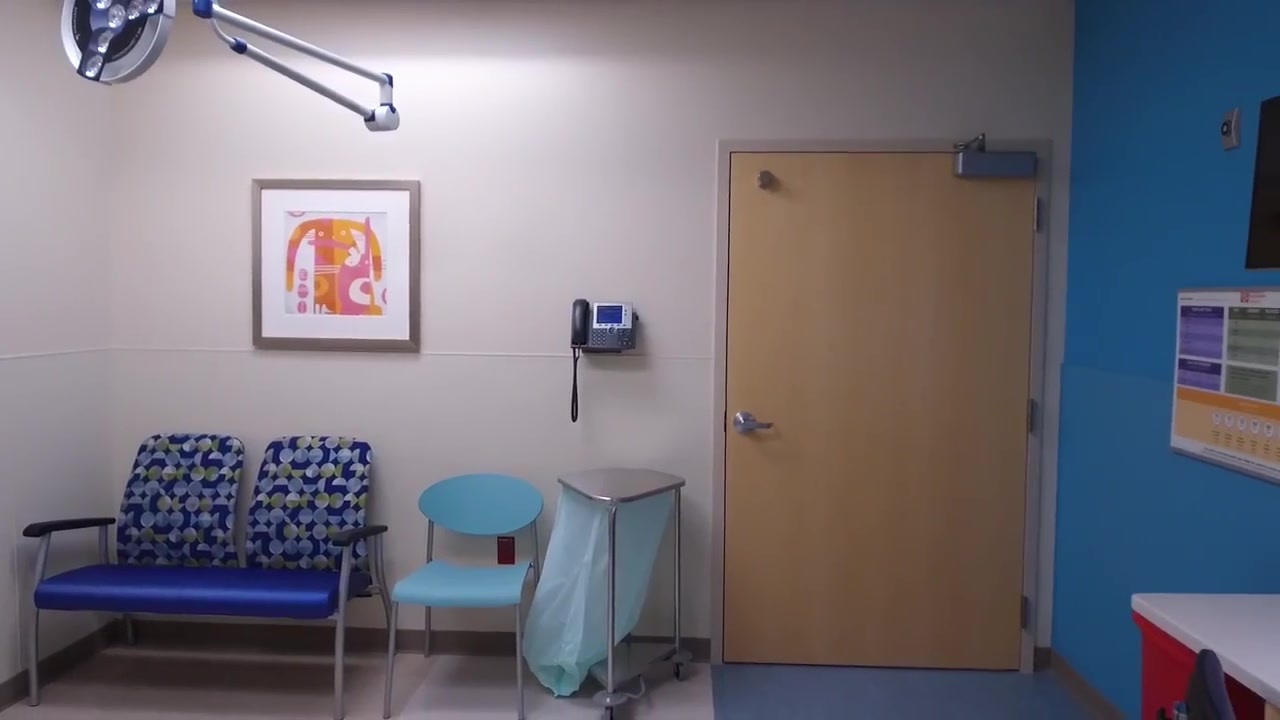chair: (22, 433, 391, 720), (382, 473, 544, 720)
door_handle: (739, 417, 777, 433)
surgical_light: (61, 1, 176, 84)
table: (1132, 591, 1280, 720)
telephone: (570, 297, 638, 356)
waste_bin: (557, 467, 692, 720)
